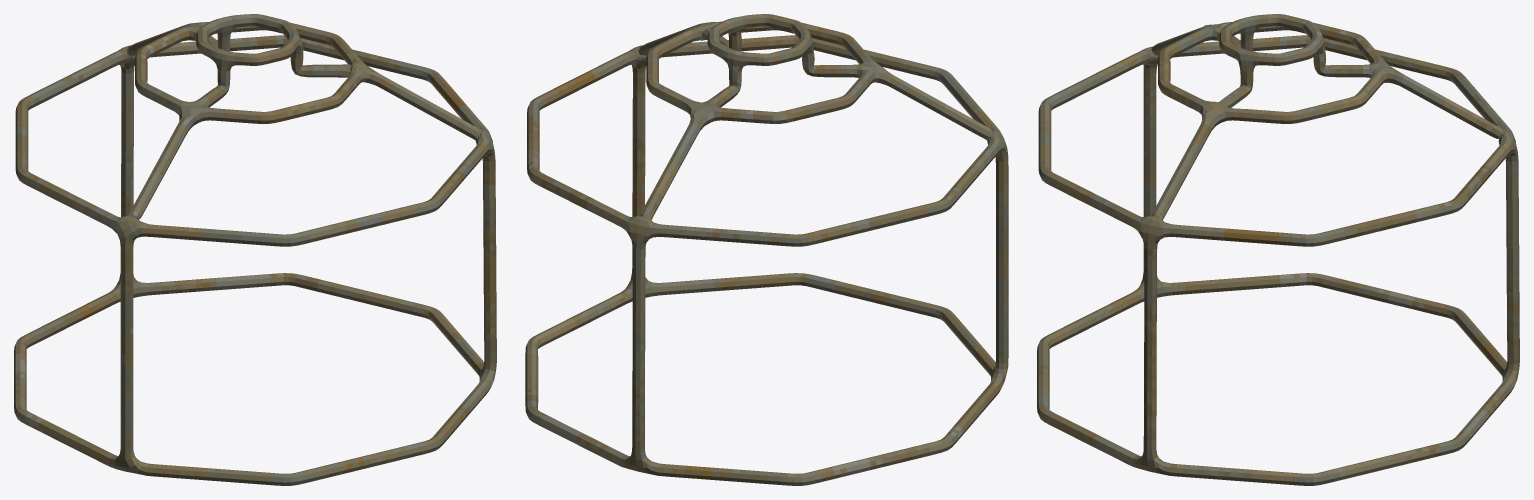
File: cage.fbx
3 renders of one model, left to right at view 1: azimuth 30°, elevation 25°; view 2: azimuth 150°, elevation 25°; view 3: azimuth 270°, elevation 25°, orthographic.
Parts seen in each view (by area): view 1: cage; view 2: cage; view 3: cage.
Boxes of the visible parts, box(x1,y1,x2,y2) form: cage: box(14, 14, 496, 485); cage: box(525, 14, 1008, 485); cage: box(1037, 14, 1519, 485).
Bounding box in the file's own units: 349 × 278 × 346.
Materials: 1 (1 with a texture image).
